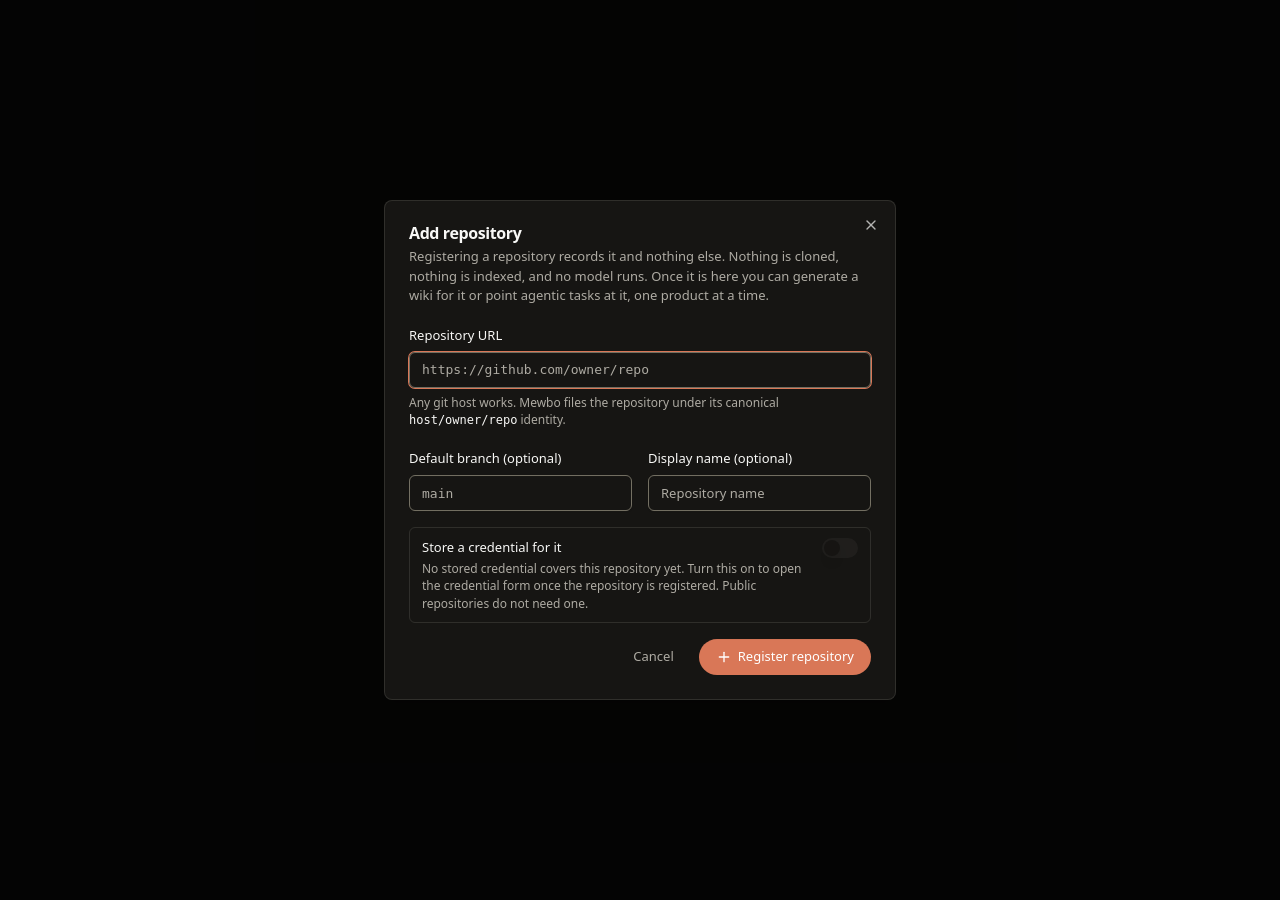
Test case: AddRepositoryDialog › previews the canonical identity and the platform as the URL is typed
The width and height of the screenshot is (1280, 900).
In the field labelled "Repository URL": (640,370) [409,352,871,388], type "https://gitea.com/acme/orbit"
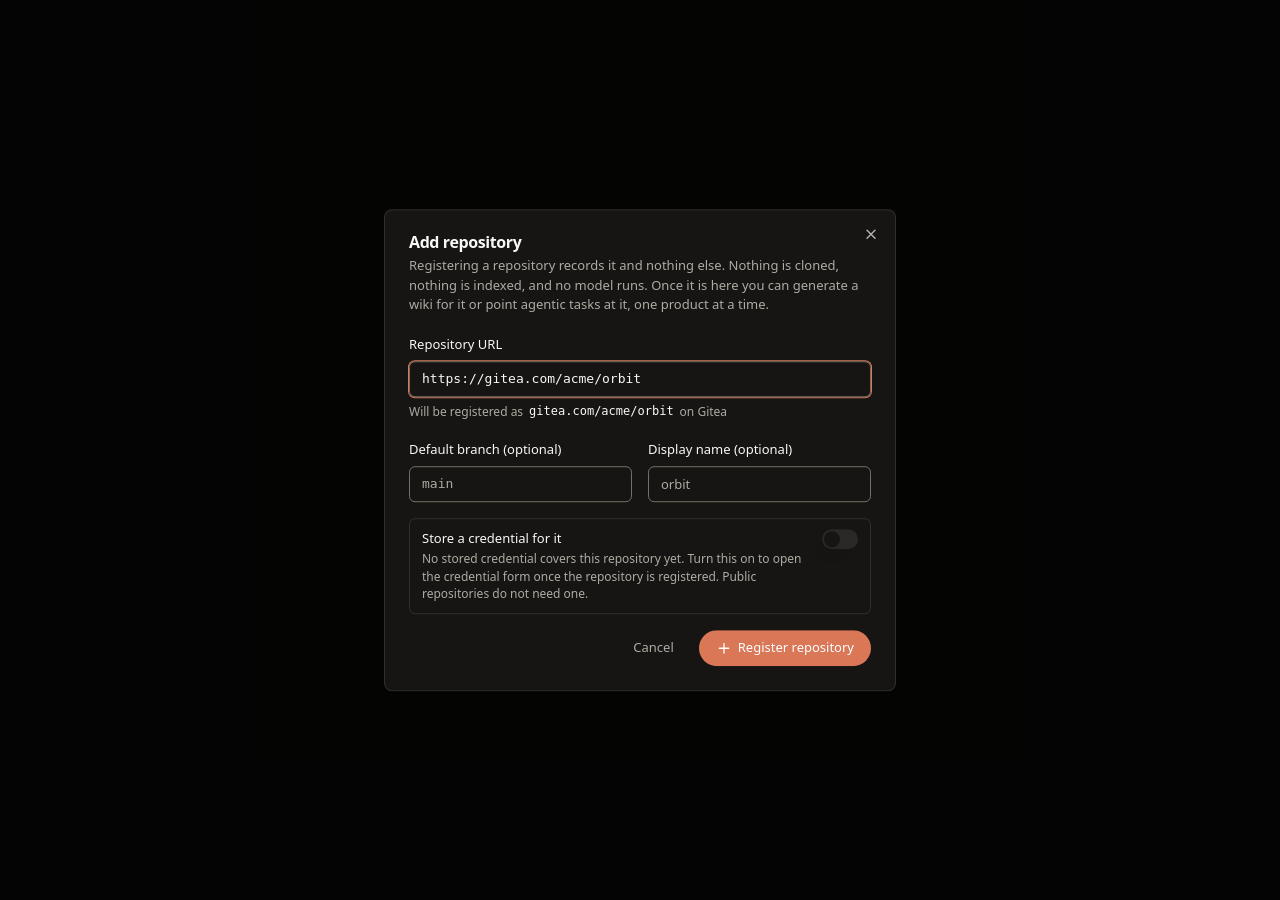
expect the text "gitea.com/acme/orbit" is shown: met, box [529,403,674,420]
expect the text "on Gitea" is shown: met, box [680,403,727,420]
